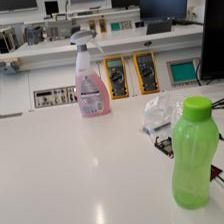bottle: (170, 97, 218, 208)
